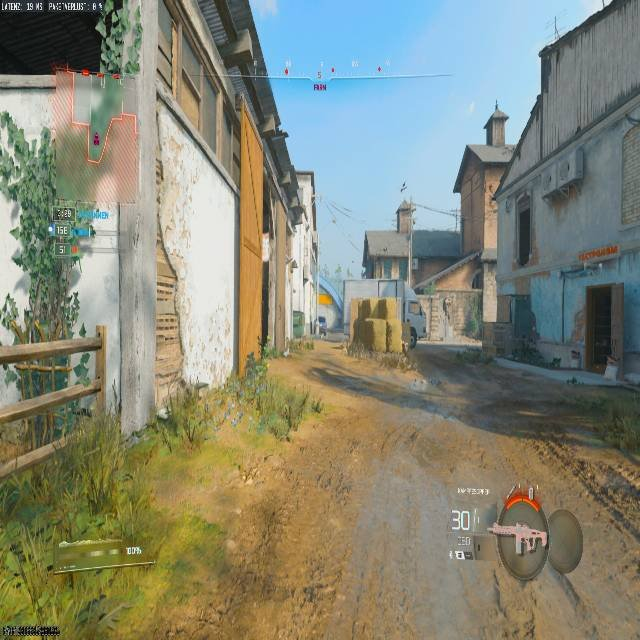player: (317, 315, 328, 339)
